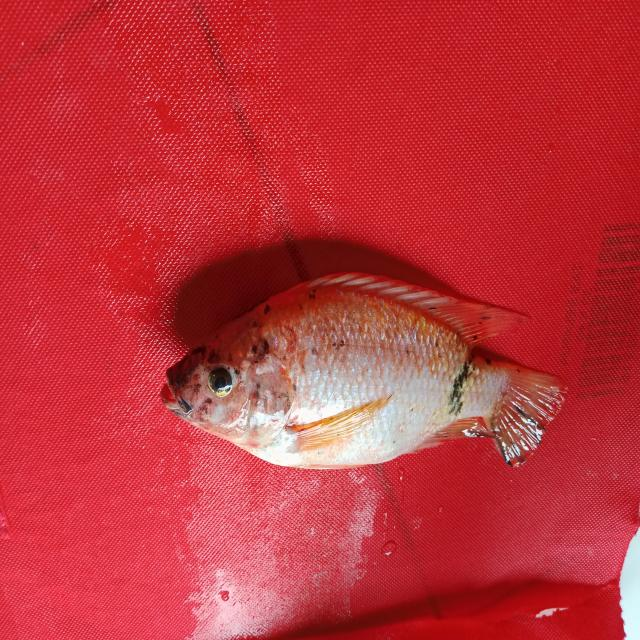ikan: (148, 269, 581, 483)
